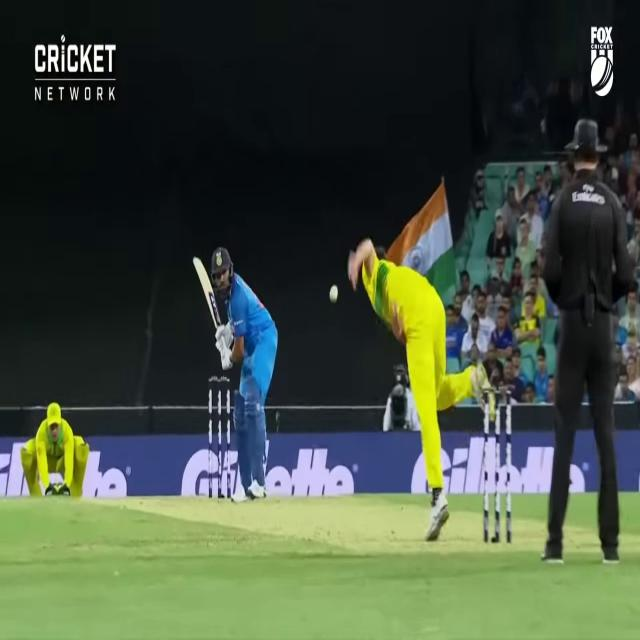ball: (329, 283, 339, 306)
stump: (208, 378, 232, 500)
